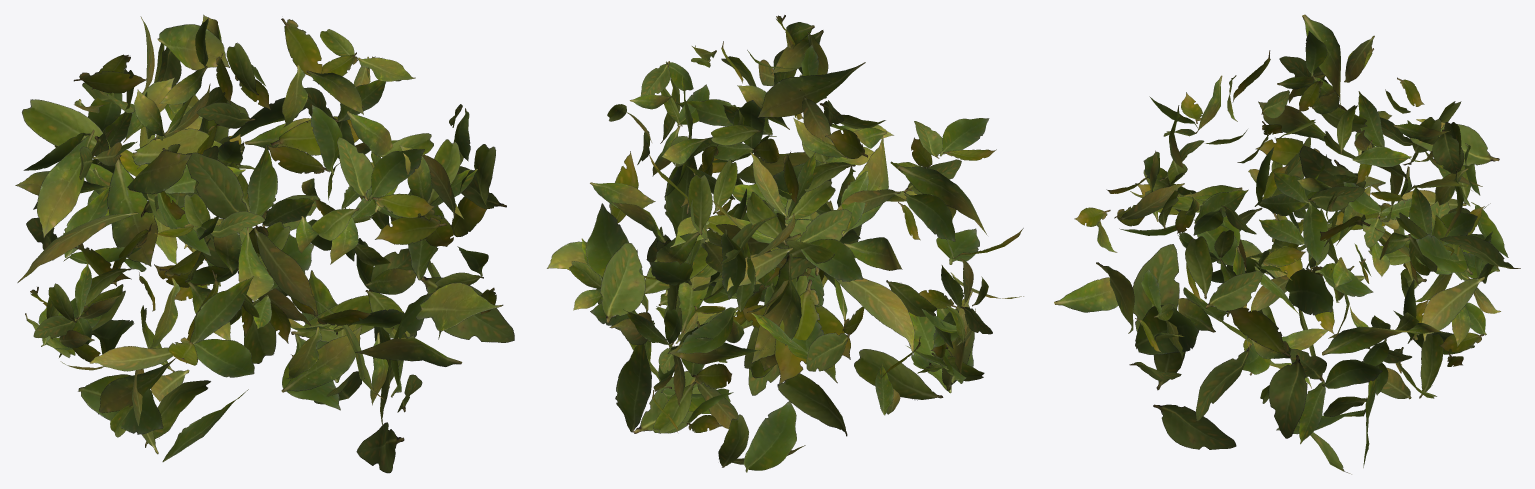
Rendered from leafpuffs.glb.
3 views of the same model, side by side, from view 1: azimuth 30°, elevation 25°; view 2: azimuth 150°, elevation 25°; view 3: azimuth 270°, elevation 25° (orthographic). The views are drawn at different scales.
Visible parts, largest first — view 1: puff0, puff1, puff4, puff2, puff3, puff5; view 2: puff0, puff2, puff3, puff1, puff5, puff4; view 3: puff0, puff3, puff2, puff4, puff5, puff1.
Boxes of the visible parts, x1,y1,x2,y2 form: puff0: (25,14,486,437); puff1: (17,24,503,353); puff4: (15,120,415,473); puff2: (26,16,514,404); puff3: (23,18,506,405); puff5: (37,82,477,461); puff0: (547,22,984,433); puff2: (600,76,992,467); puff3: (611,15,961,432); puff1: (707,62,917,472); puff5: (667,49,996,400); puff4: (609,142,1023,436); puff0: (1054,31,1480,444); puff3: (1135,50,1500,395); puff2: (1196,35,1520,474); puff4: (1119,111,1484,449); puff5: (1149,67,1499,334); puff1: (1096,14,1474,354).
Size of the model in its own units: 0.268 by 0.2638 by 0.2939.
Materials: 1 (1 with a texture image).
